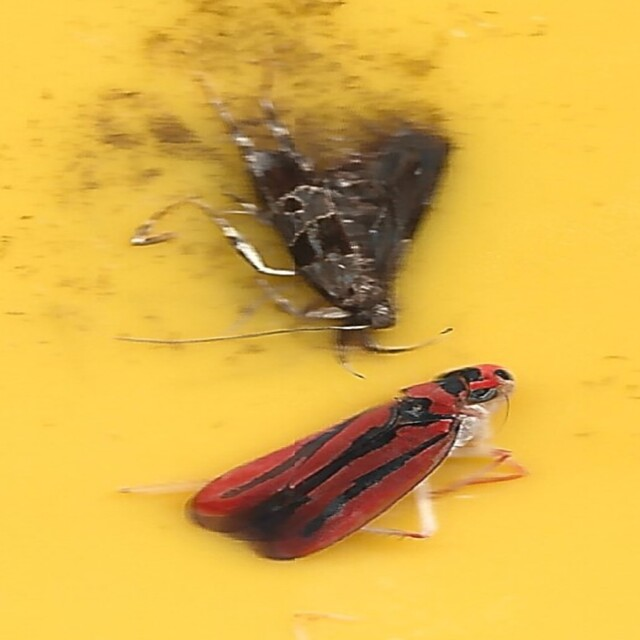Hemiptera: (189, 363, 517, 565)
Lepidoptera: (123, 75, 455, 357)
